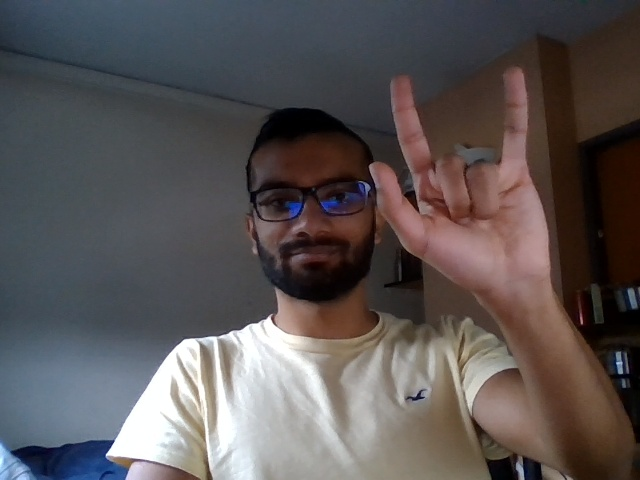I Love You: (361, 62, 560, 291)
